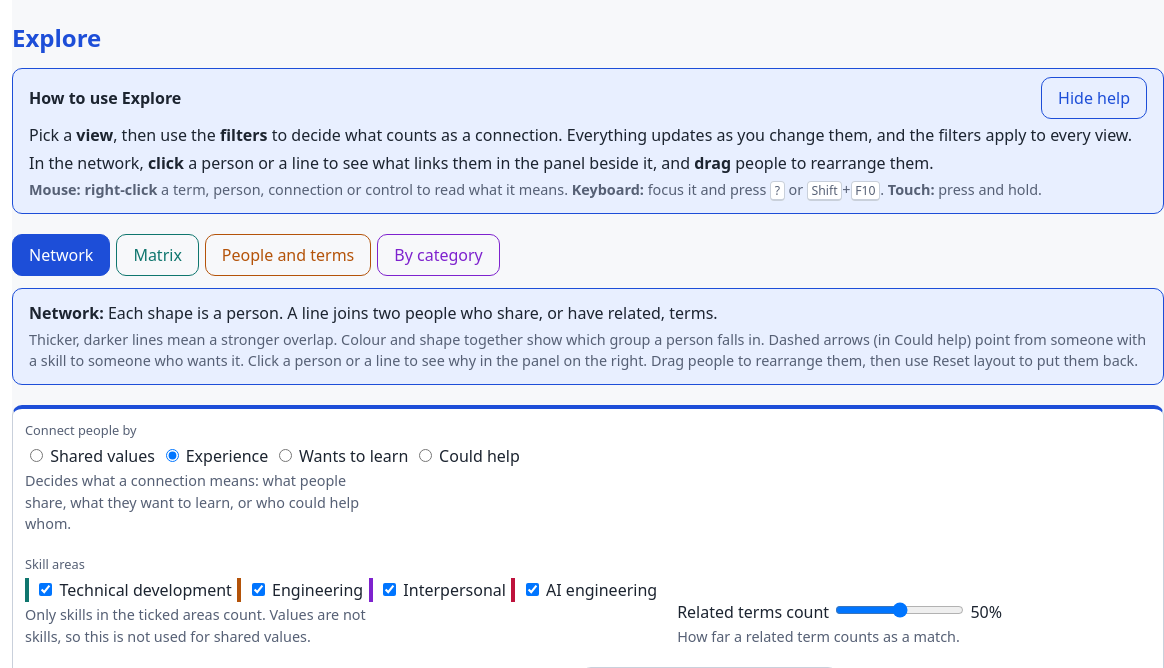
dragging people in the network › offers no dragging in the other views
This screenshot has width=1164, height=668.
Click the button "Matrix" at point(158, 255), box [116, 234, 199, 276]
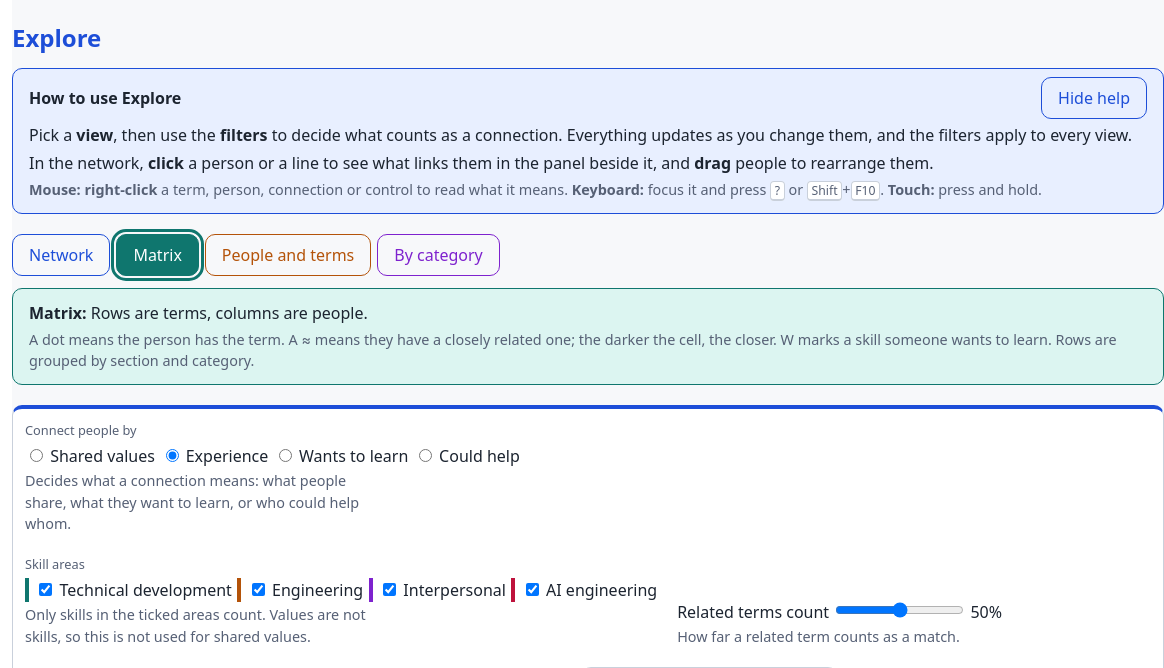
Expected: the text "Reset layout" is gone
